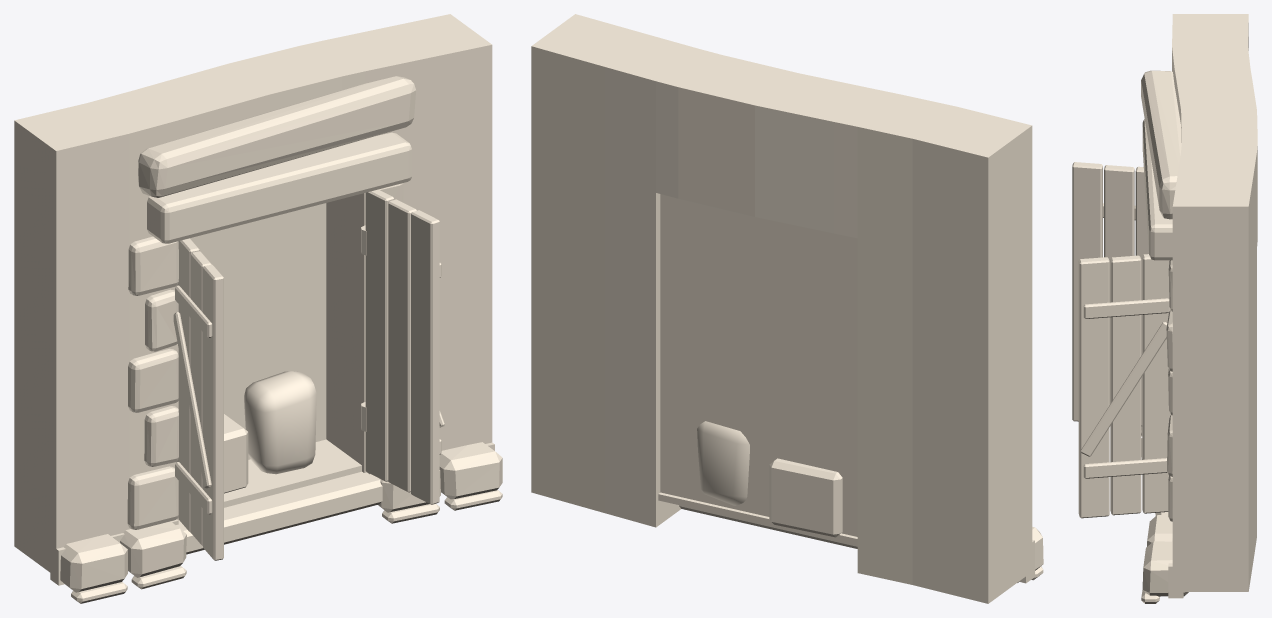
The model's file is SM_VK_Wall_StoneUp_Loading.fbx.
The picture shows the model from 3 angles, left to right: view 1: azimuth 30°, elevation 25°; view 2: azimuth 150°, elevation 25°; view 3: azimuth 270°, elevation 25°; orthographic projection. The views are drawn at different scales.
Visible parts, largest first — view 1: SM_VK_Wall_StoneUp_Loading.001; view 2: SM_VK_Wall_StoneUp_Loading.001; view 3: SM_VK_Wall_StoneUp_Loading.001.
Part boxes in pixels (x1,y1,x2,y2): SM_VK_Wall_StoneUp_Loading.001: (14, 14, 502, 603); SM_VK_Wall_StoneUp_Loading.001: (531, 14, 1043, 603); SM_VK_Wall_StoneUp_Loading.001: (1072, 14, 1257, 603).
Bounding box in the file's own units: 3 × 2.91 × 1.22.
